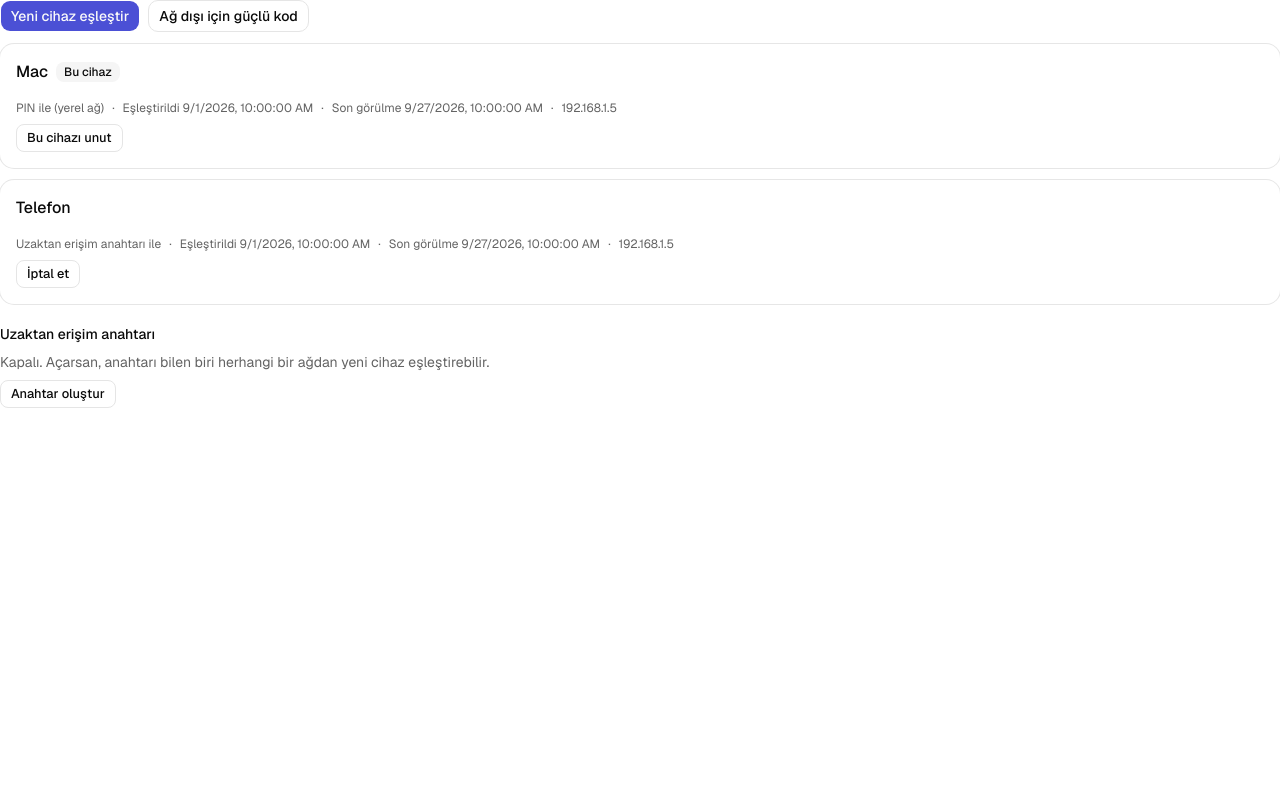
Test: DevicesPanel › revokes another device only after confirmation
Click the button "İptal et" at x=48, y=274, box 16,260 -> 80,288
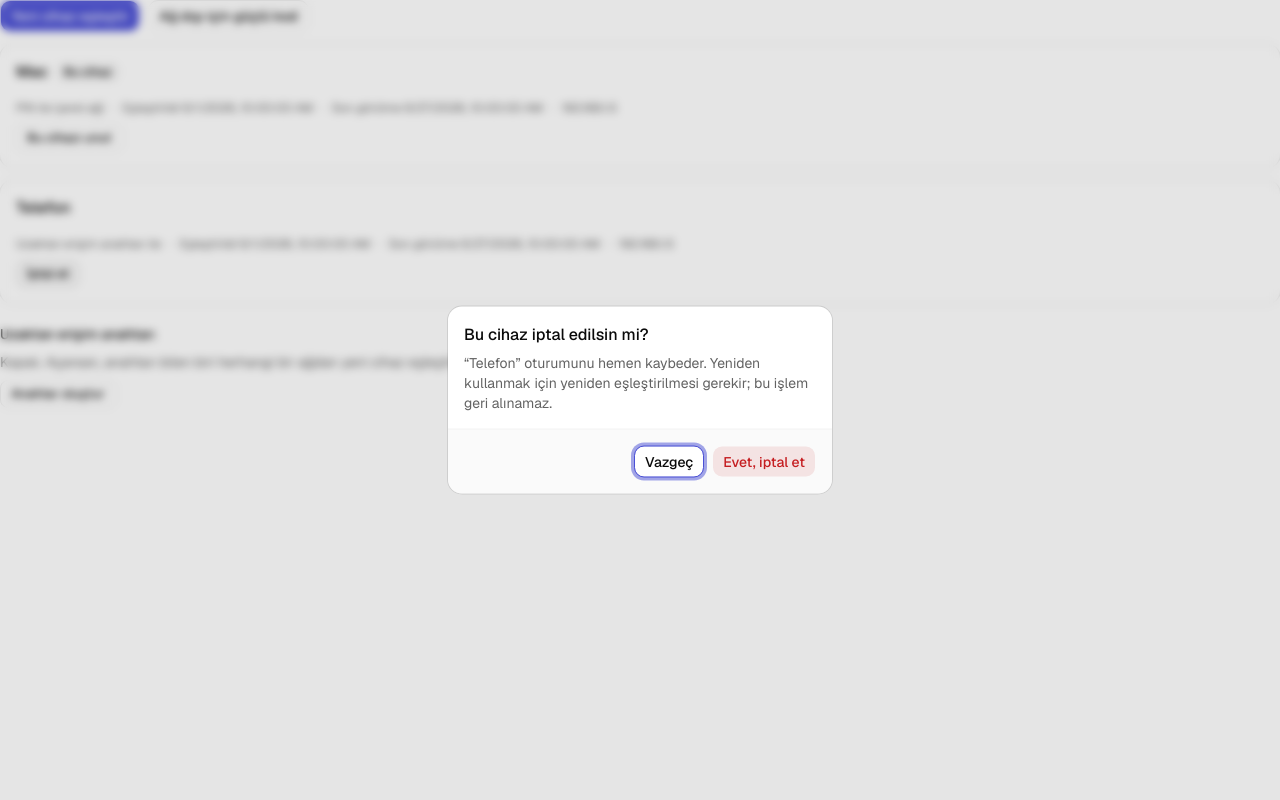
Click the button "Evet, iptal et" at x=764, y=462, box 712,446 -> 816,478
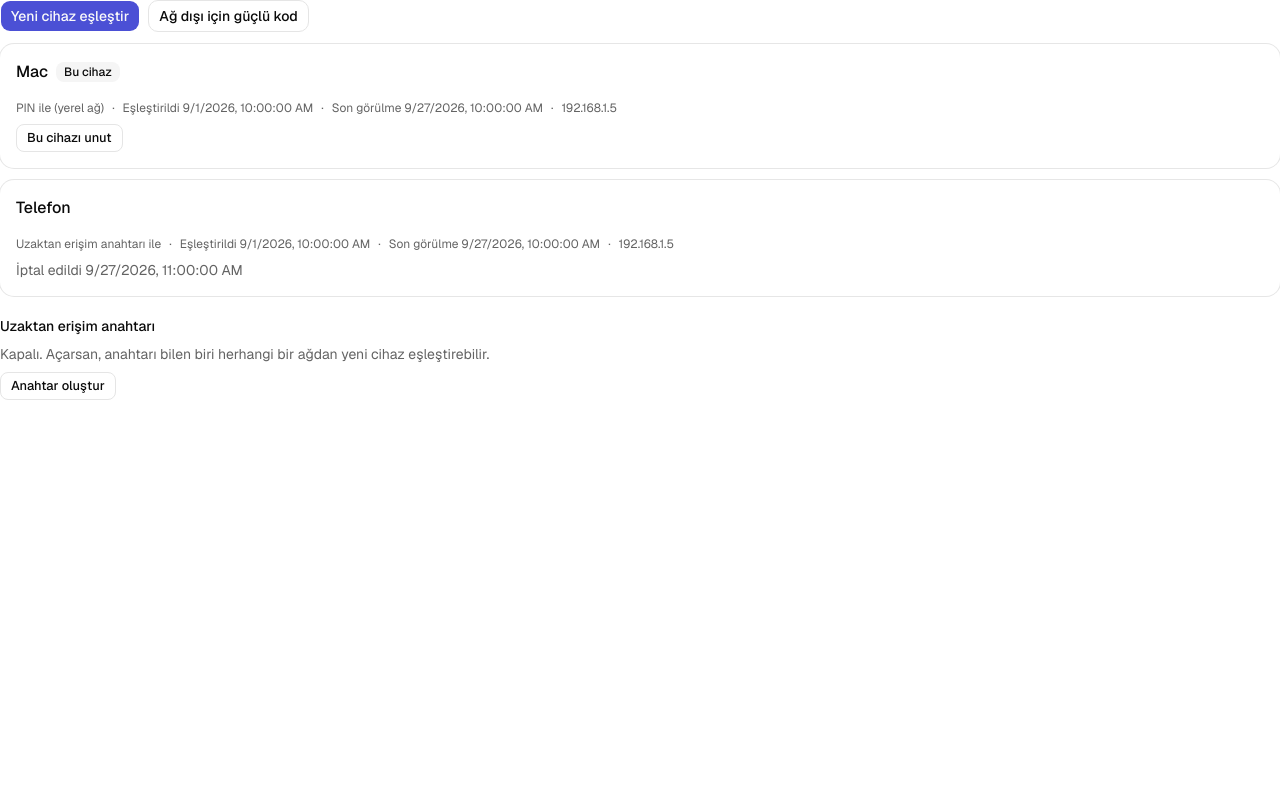
Expected: the text "İptal edildi 9/27/2026, 11:00:00 AM" is shown, 16,261 -> 243,279
